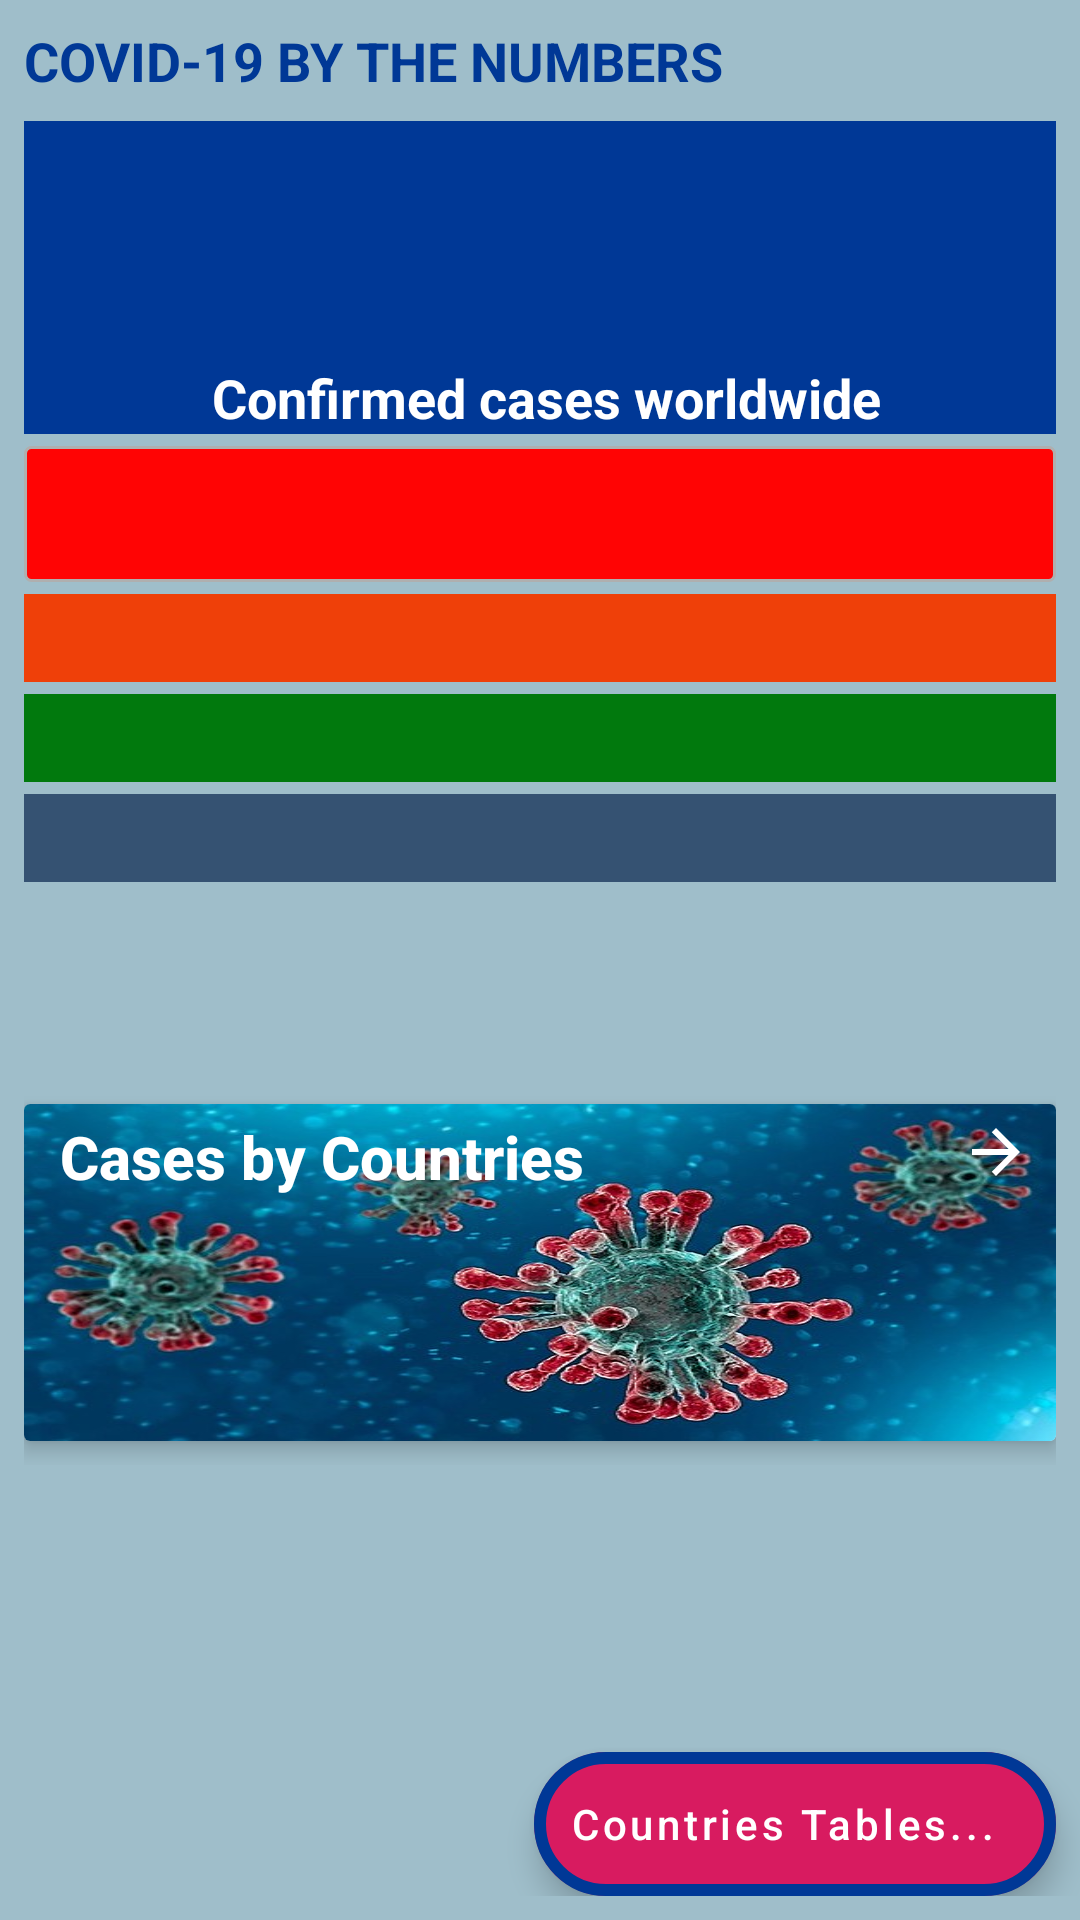

Screen size 1080 x 1920. Icon name, then its center in pixels as (x,y):
arrow: (996,1152)
